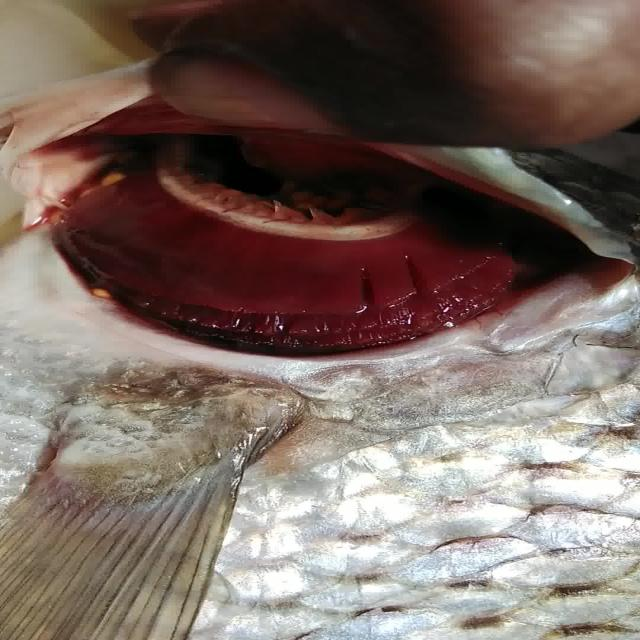Fresh: (0, 144, 616, 349)
